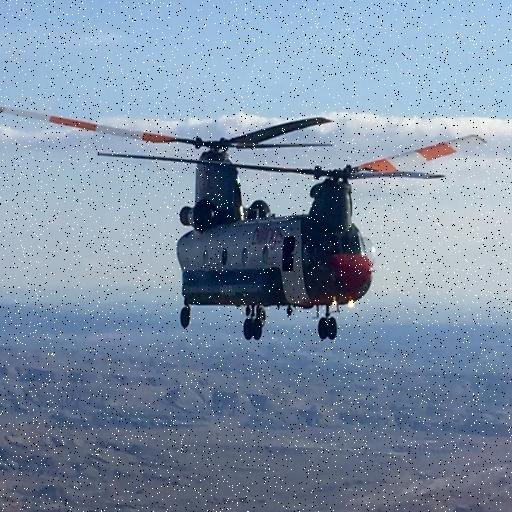helicopter: (1, 104, 484, 340)
